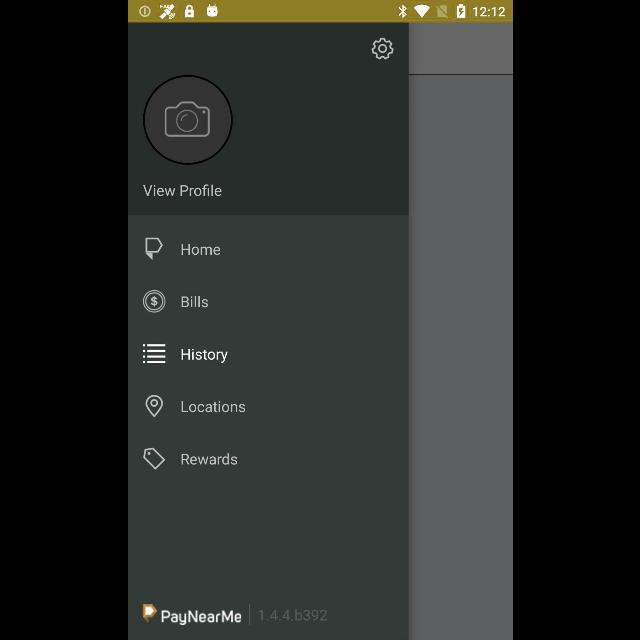icon: (142, 75, 232, 165), (142, 290, 166, 314), (371, 38, 394, 61), (142, 448, 166, 470), (141, 344, 165, 364), (144, 394, 162, 418), (145, 238, 163, 260), (141, 604, 157, 622)
panel: (127, 22, 407, 640)
text: (160, 610, 240, 626), (142, 185, 222, 198), (257, 608, 327, 622), (181, 401, 245, 414), (180, 452, 238, 466), (180, 348, 228, 364), (180, 244, 220, 256), (180, 296, 208, 308)
uppertaskbar: (128, 1, 512, 23)
